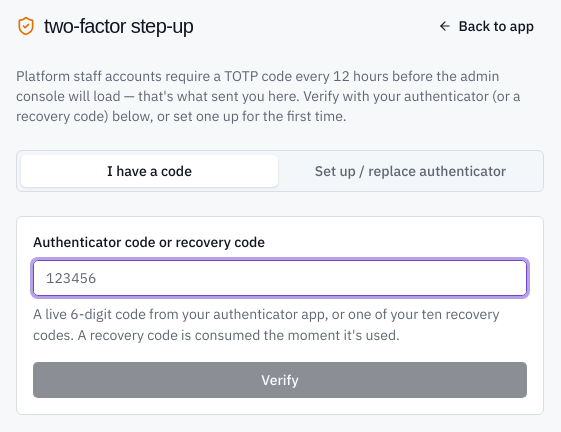
Test: AdminTwoFactorPage › warns before re-enrolling over an existing authenticator
The width and height of the screenshot is (561, 432).
Step 1. Click the button "Set up / replace authenticator" → (410, 171), box [282,155,539,187]
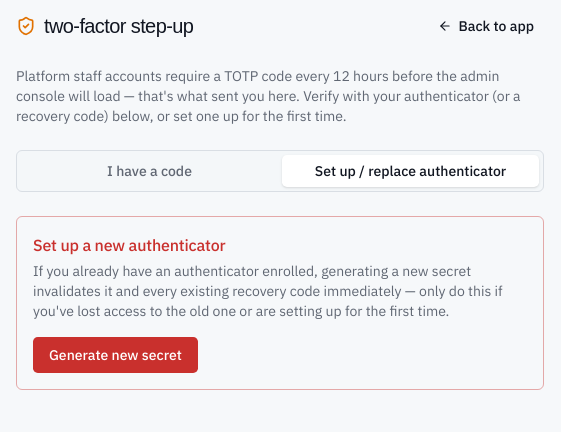
Now the text "invalidates it and every existing recovery code" is shown, box [33,262,503,320]
